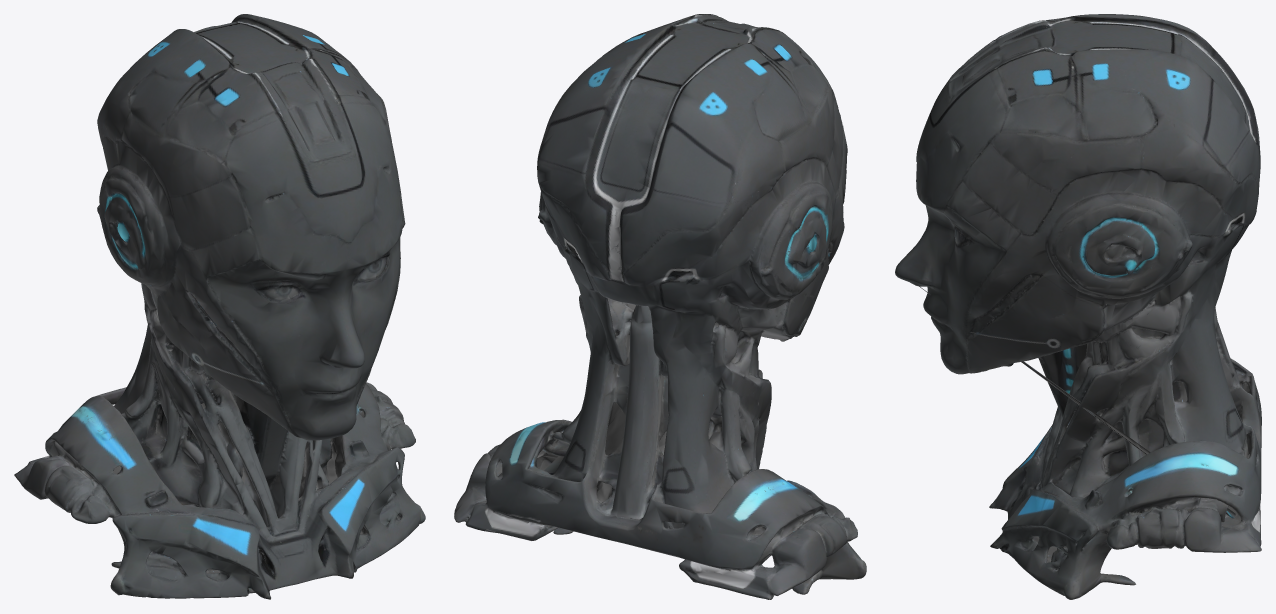
Rendered from Meshy_AI_Futuristic_humanoid_t_0808114600_texture.glb.
The picture shows the model from 3 angles, left to right: view 1: azimuth 30°, elevation 25°; view 2: azimuth 150°, elevation 25°; view 3: azimuth 270°, elevation 25°; orthographic projection. The views are drawn at different scales.
Bounding box in the file's own units: 1.43 × 2 × 1.34.
Materials: 1 (1 with a texture image).
